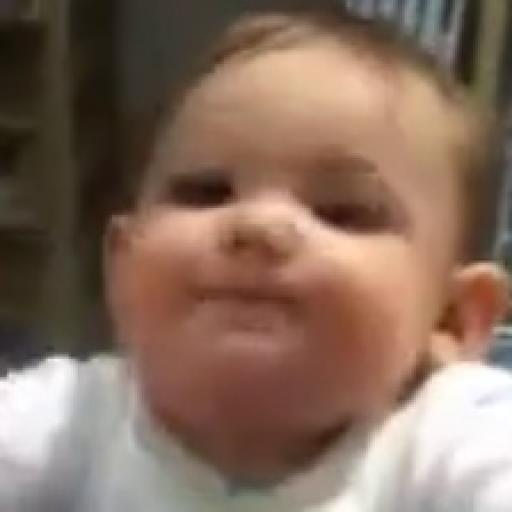Autism: (105, 33, 470, 433)
